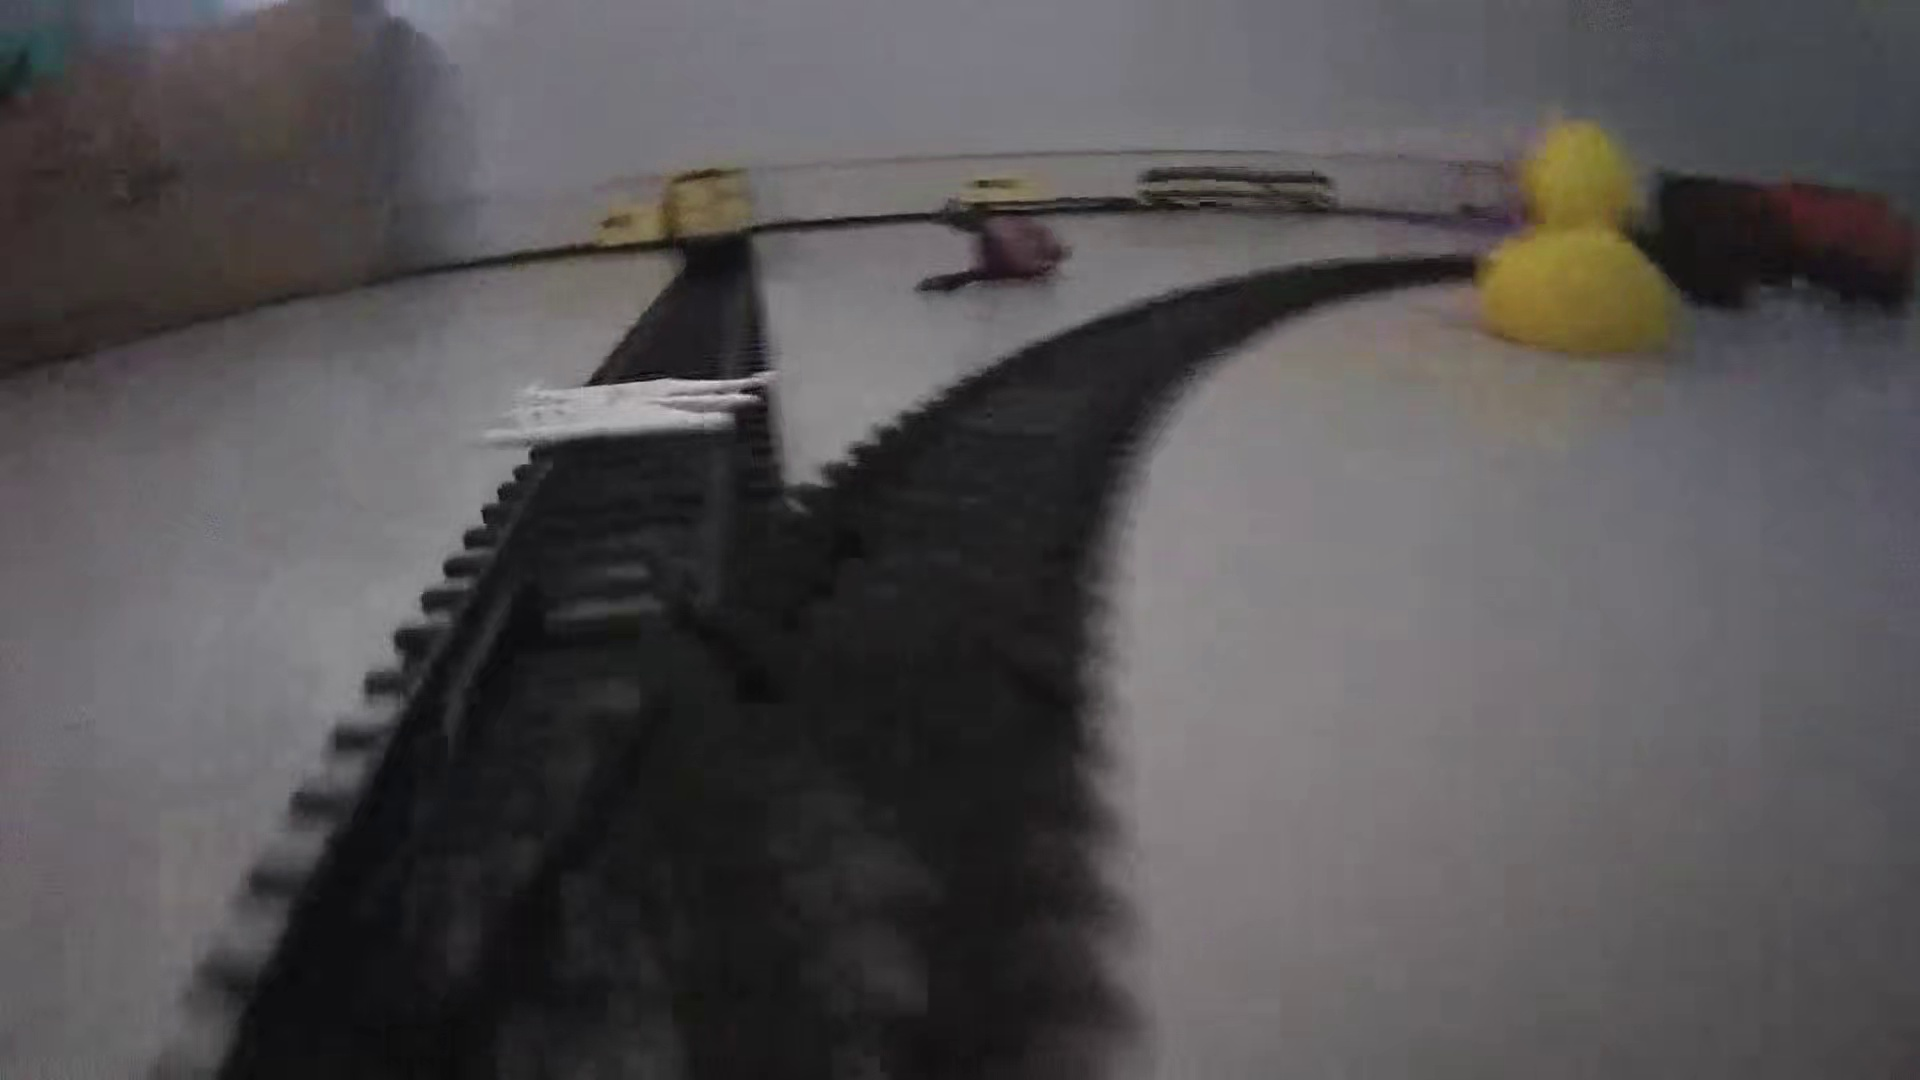people: (912, 201, 1075, 296)
web: (478, 372, 781, 445)
